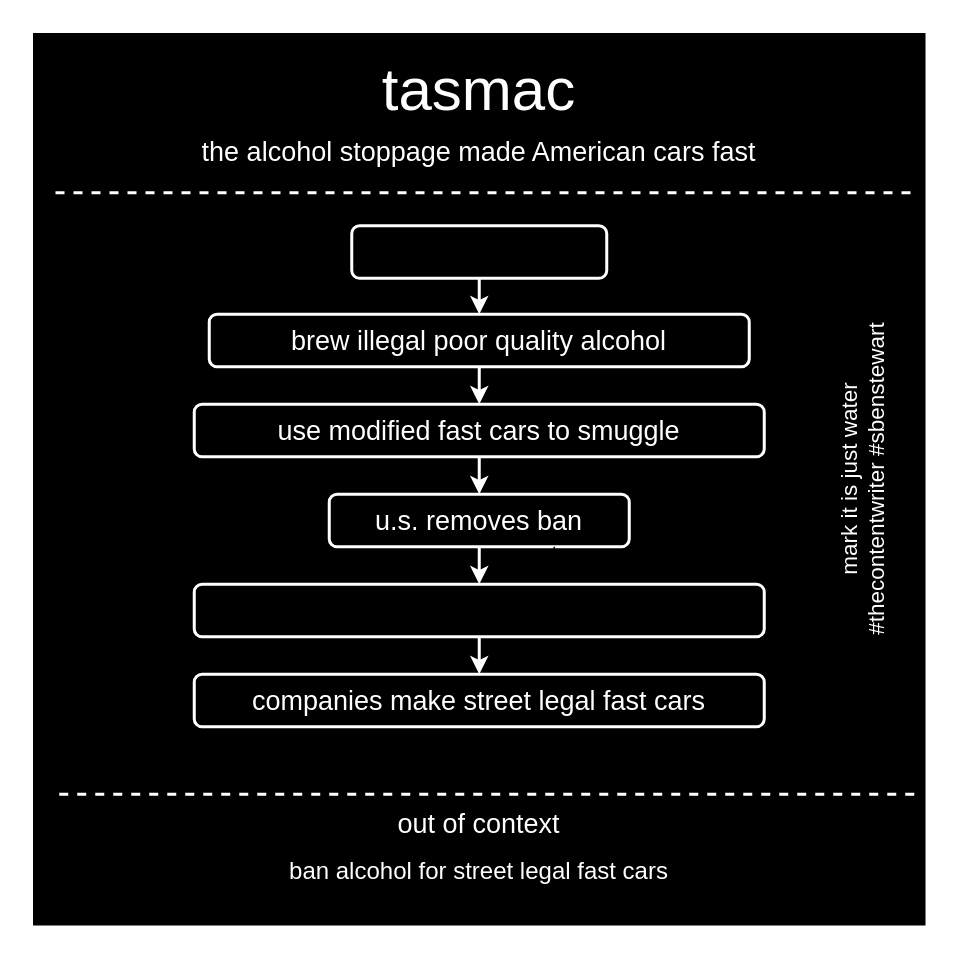
The diagram is 959 pixels wide and 959 high, and some of its shapes have lost their labels. The shapes that lost their labels are listed below. From the top down, each one's box as (x1, y1, x2, y2) in pixels, then its label:
(350, 224, 608, 279): u.s. bans alcohol
(192, 582, 765, 638): use those modified fast cars to race
